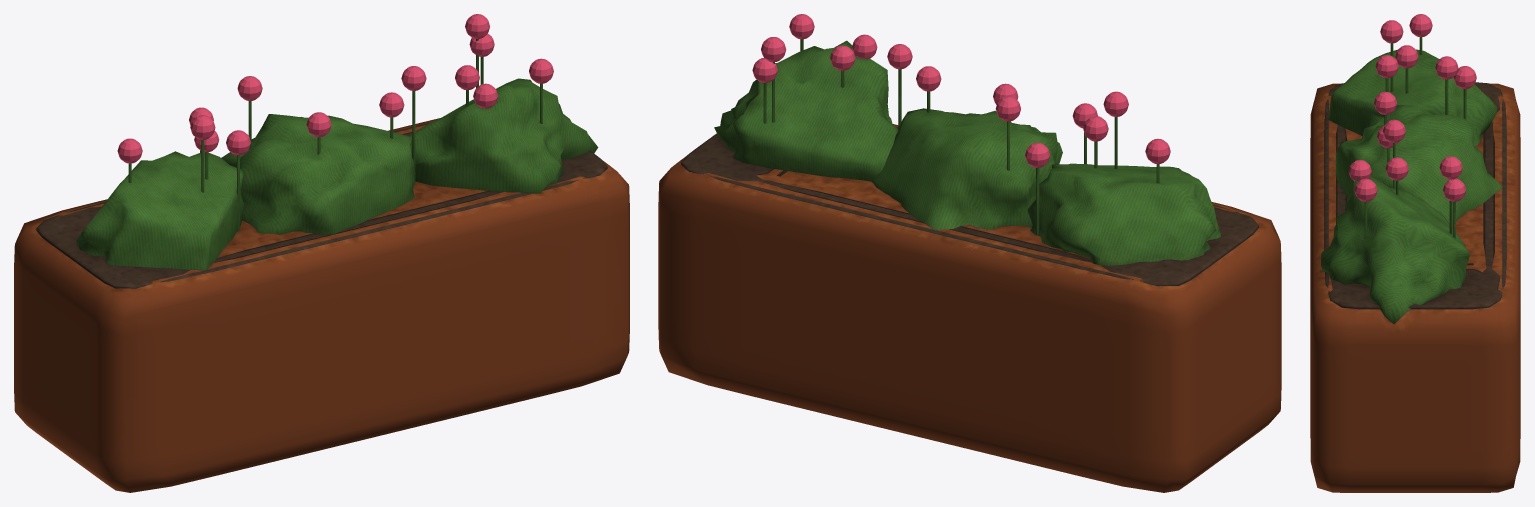
Rendered from corten-box-flowers.glb.
3 views of the same model, side by side, from view 1: azimuth 30°, elevation 25°; view 2: azimuth 150°, elevation 25°; view 3: azimuth 270°, elevation 25° (orthographic). The views are drawn at different scales.
Parts seen in each view (by area): view 1: corten, shrub_leaves, soil, flower_petals, flower_stem; view 2: corten, shrub_leaves, soil, flower_petals, flower_stem; view 3: corten, shrub_leaves, soil, flower_petals, flower_stem.
Part boxes in pixels (<box>): corten: <box>14,118,629,492</box>; shrub_leaves: <box>76,78,598,270</box>; soil: <box>36,122,607,288</box>; flower_petals: <box>117,14,553,163</box>; flower_stem: <box>128,39,542,231</box>; corten: <box>658,124,1281,492</box>; shrub_leaves: <box>714,40,1221,265</box>; soil: <box>681,126,1258,286</box>; flower_petals: <box>752,14,1170,167</box>; flower_stem: <box>763,39,1159,235</box>; corten: <box>1310,83,1520,492</box>; shrub_leaves: <box>1321,49,1502,323</box>; soil: <box>1324,82,1506,309</box>; flower_petals: <box>1348,14,1476,201</box>; flower_stem: <box>1364,37,1466,239</box>.
Bounding box in the file's own units: 1.2 × 0.7204 × 0.45.
Materials: 5 (4 with a texture image).
